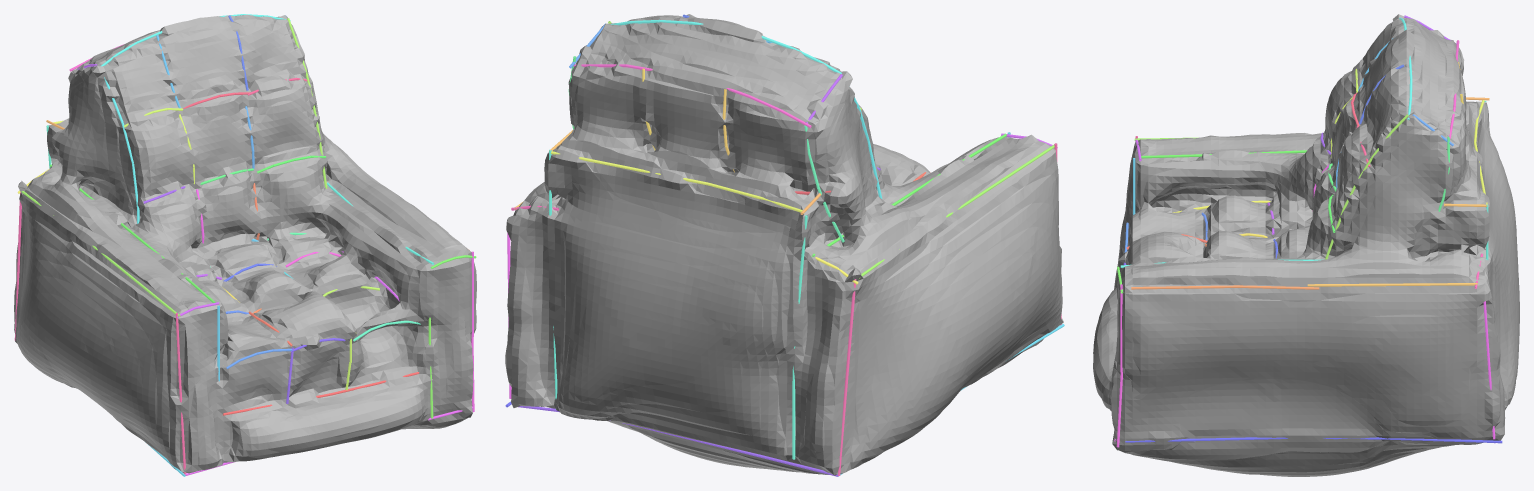
The model's file is author2_sofa.gltf.
3 views of the same model, side by side, from view 1: azimuth 30°, elevation 25°; view 2: azimuth 150°, elevation 25°; view 3: azimuth 270°, elevation 25° (orthographic). The views are drawn at different scales.
Bounding box in the file's own units: 0.6203 × 0.6786 × 0.6729.
